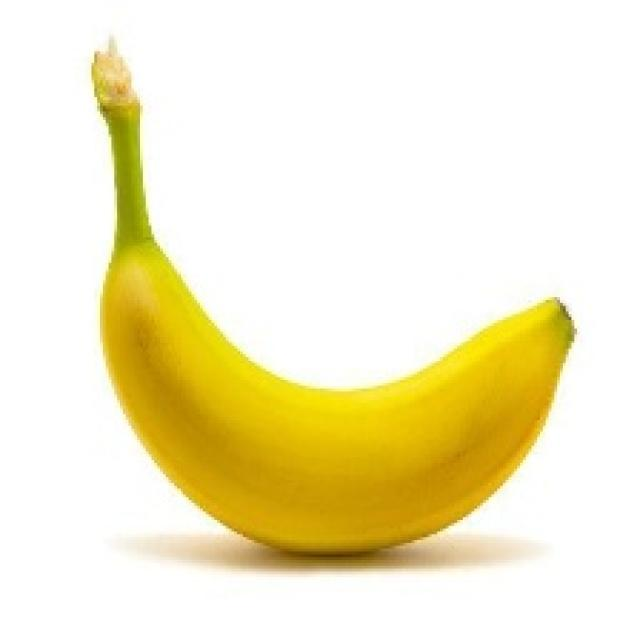Banana: (89, 32, 577, 557)
